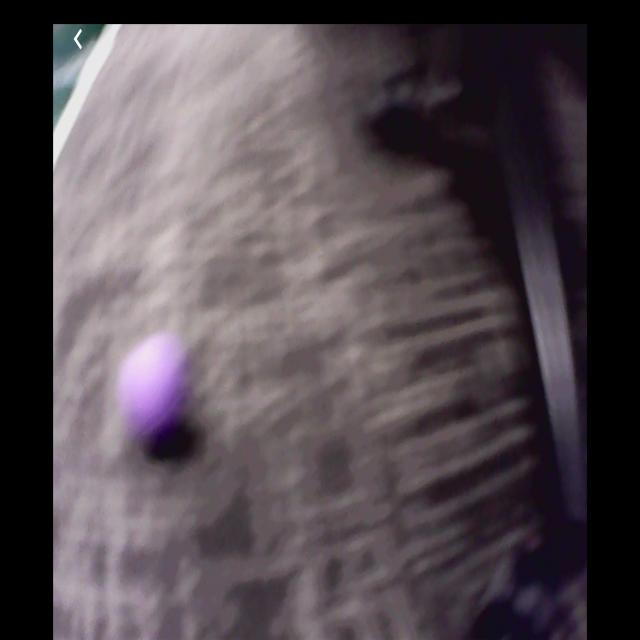ball: (124, 335, 197, 455)
